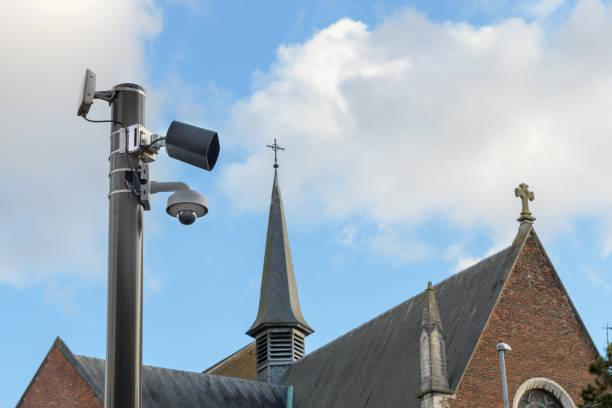camera: (138, 173, 219, 234)
